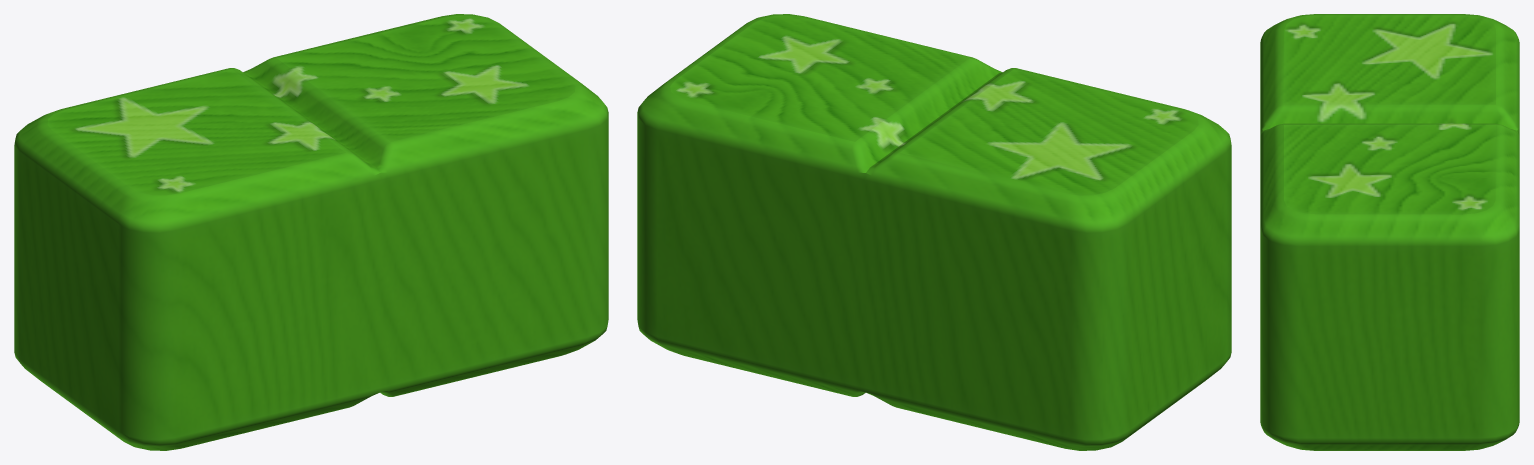
The model's file is Star_Block_08.fbx.
3 views of the same model, side by side, from view 1: azimuth 30°, elevation 25°; view 2: azimuth 150°, elevation 25°; view 3: azimuth 270°, elevation 25° (orthographic). The views are drawn at different scales.
Visible parts, largest first — view 1: Star_Block_08; view 2: Star_Block_08; view 3: Star_Block_08.
Part boxes in pixels (x1=…): Star_Block_08: x1=14, y1=14, x2=608, y2=450; Star_Block_08: x1=637, y1=14, x2=1231, y2=450; Star_Block_08: x1=1260, y1=14, x2=1519, y2=450.
Size of the model in its own units: 2 by 1 by 1.
Materials: 1 (1 with a texture image).
